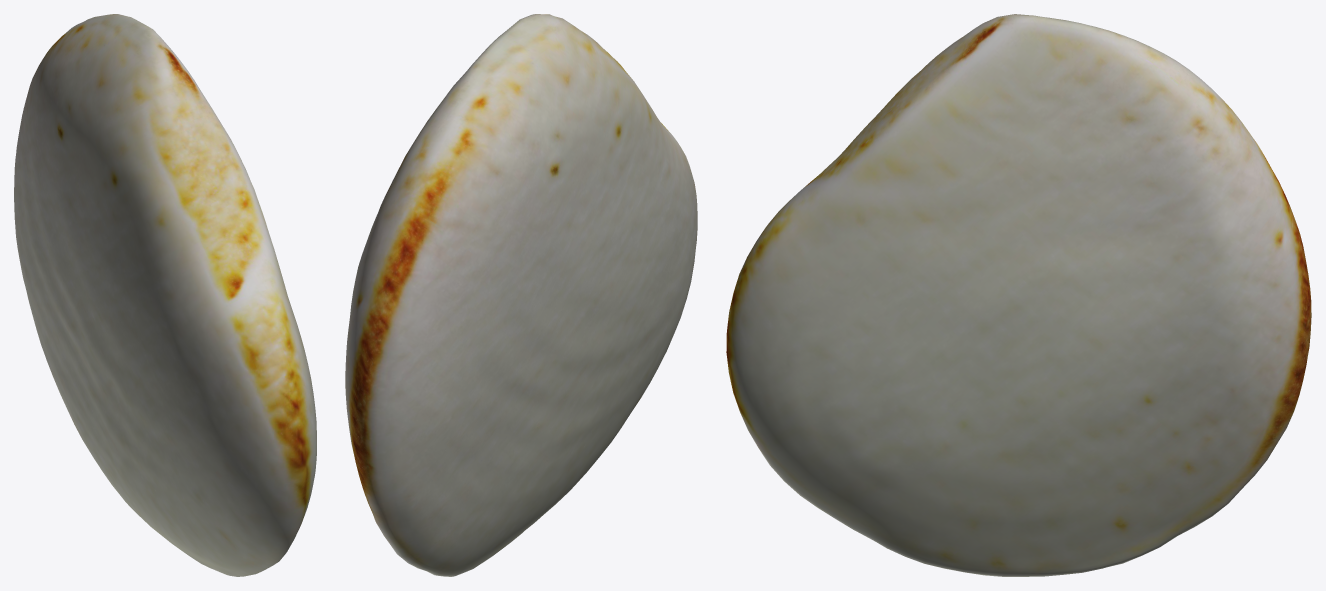
The model's file is Smozza.fbx.
The picture shows the model from 3 angles, left to right: view 1: azimuth 30°, elevation 25°; view 2: azimuth 150°, elevation 25°; view 3: azimuth 270°, elevation 25°; orthographic projection. The views are drawn at different scales.
Visible parts, largest first — view 1: mesh; view 2: mesh; view 3: mesh.
Part boxes in pixels (<box>): mesh: <box>14,14,316,576</box>; mesh: <box>345,14,697,576</box>; mesh: <box>726,14,1311,576</box>.
Bounding box in the file's own units: 27.92 × 99.63 × 96.88.
